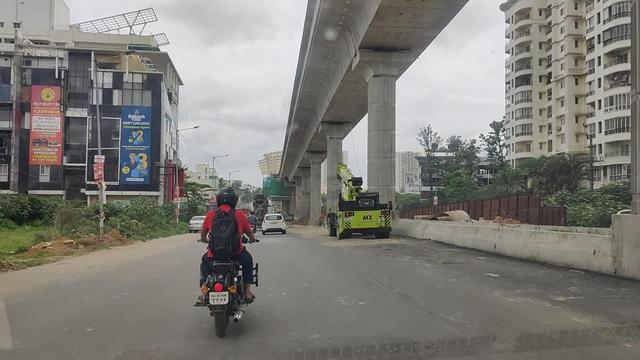HMV: (327, 166, 394, 238)
LMV: (200, 183, 252, 329), (261, 215, 286, 232)
RoadDamages: (494, 272, 590, 326), (349, 261, 437, 316), (301, 327, 422, 360), (103, 341, 179, 360)
